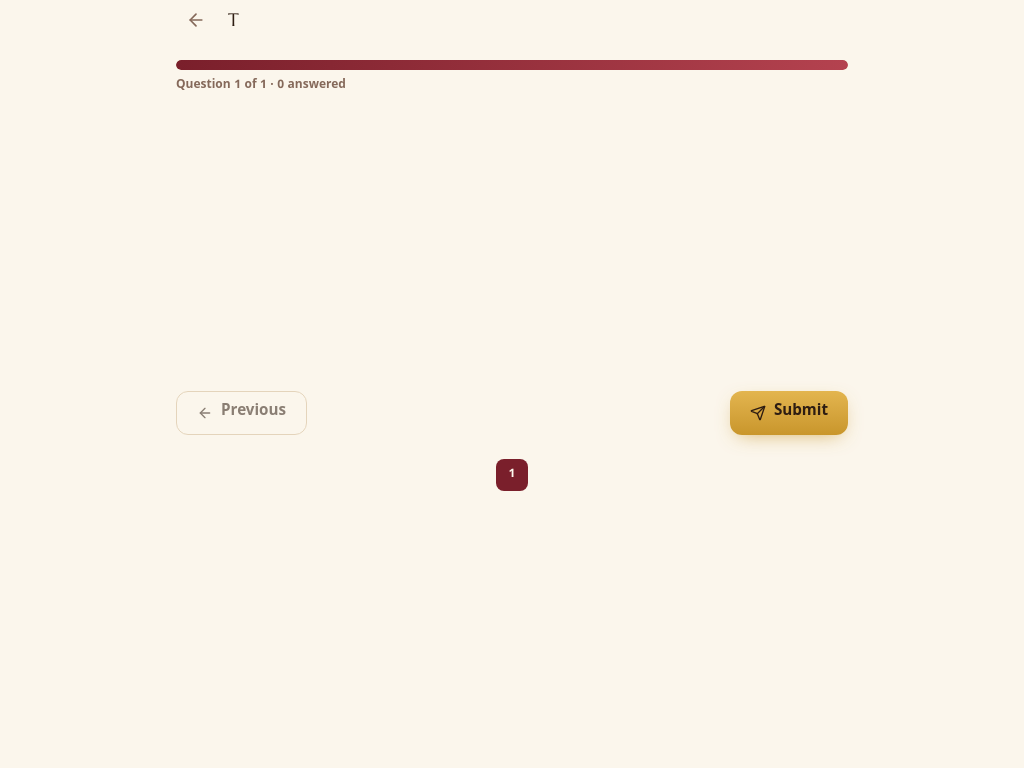
Test: QuizRunner › asks for confirmation when questions are unanswered
This screenshot has width=1024, height=768.
Click the button "Submit" at (789, 413), box [730,391,848,435]
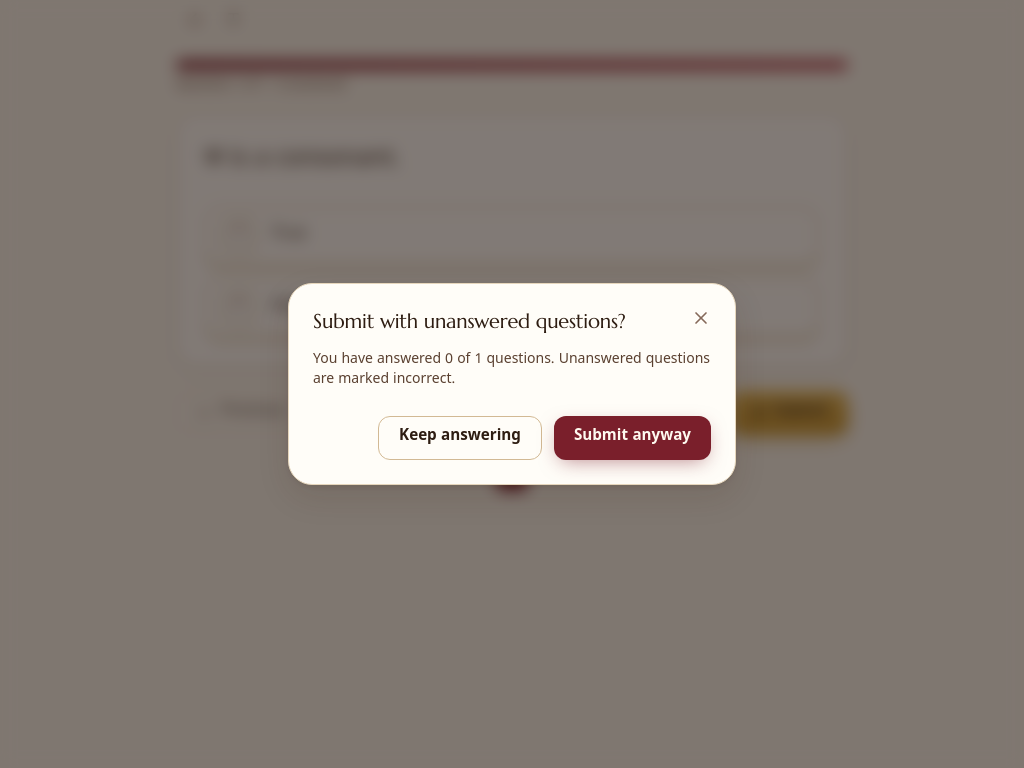
Check: the heading "Submit with unanswered questions?" is shown, box [313,308,626,336]
